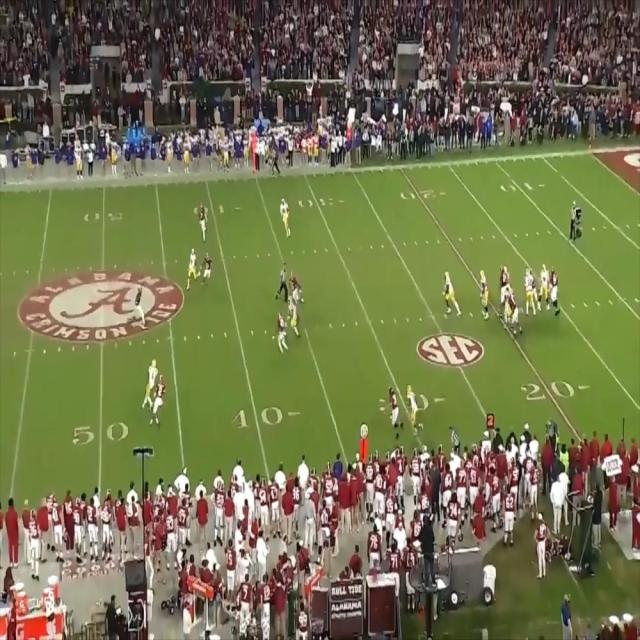db: (150, 372, 164, 427), (388, 386, 400, 433), (132, 285, 144, 327), (290, 271, 304, 305), (275, 312, 285, 349), (199, 204, 207, 240)
lb: (202, 250, 212, 282)
skill: (144, 359, 158, 416), (404, 382, 418, 428), (288, 294, 300, 339), (280, 200, 290, 238), (188, 247, 197, 286)
